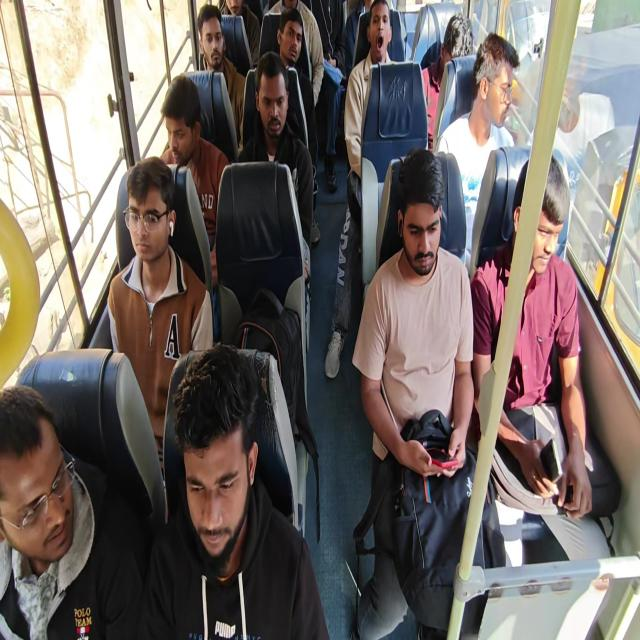person: (351, 147, 505, 638), (470, 152, 620, 586), (138, 342, 330, 639), (0, 383, 144, 639), (106, 156, 214, 481), (324, 0, 397, 379), (237, 51, 314, 350), (435, 32, 520, 264), (159, 75, 229, 286), (274, 7, 321, 243), (554, 56, 615, 202), (302, 0, 346, 192), (196, 3, 246, 152), (420, 12, 474, 144), (265, 0, 324, 108), (218, 0, 260, 71)
